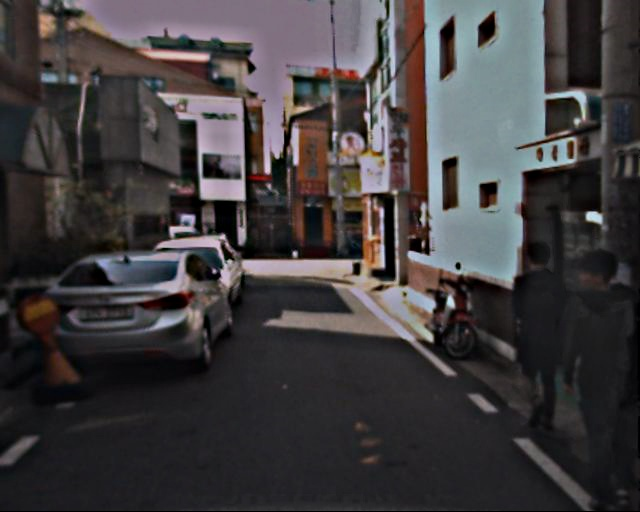person: (539, 253, 640, 501), (491, 242, 582, 433)
